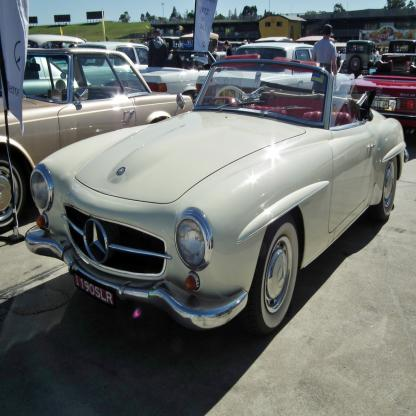Car: (0, 34, 414, 332)
